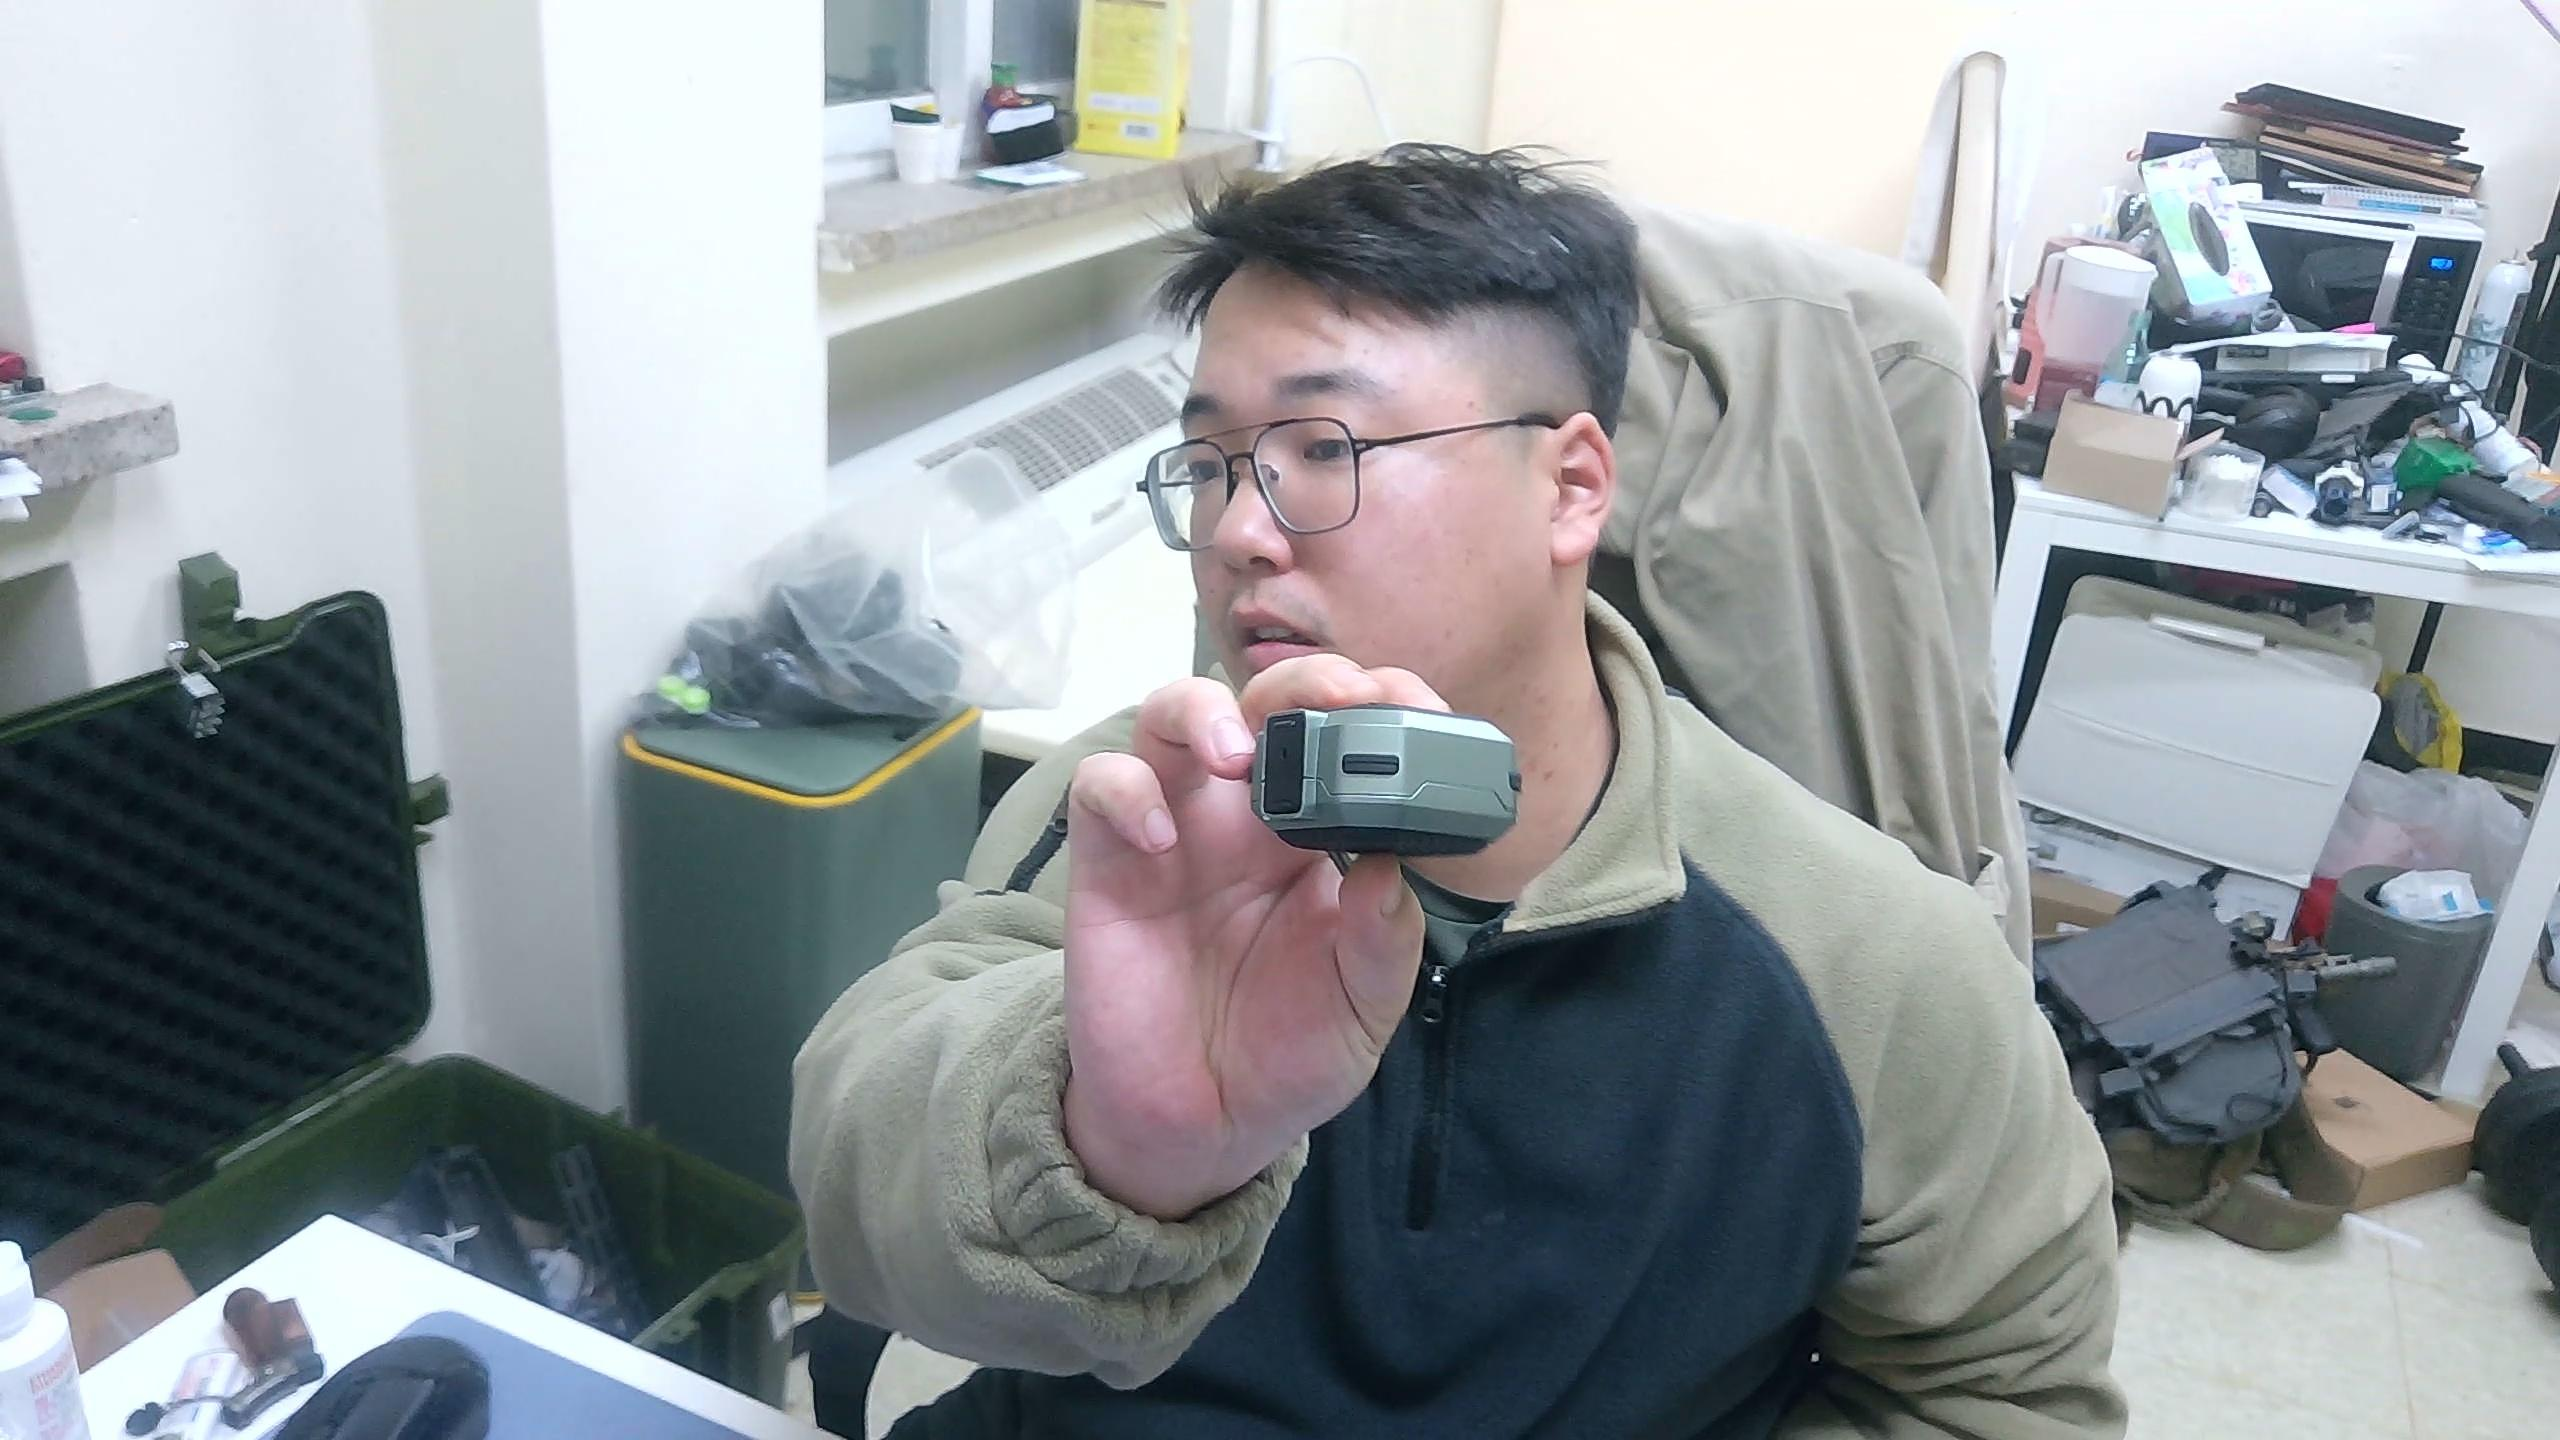blue_pliers: (1250, 700, 1524, 860)
